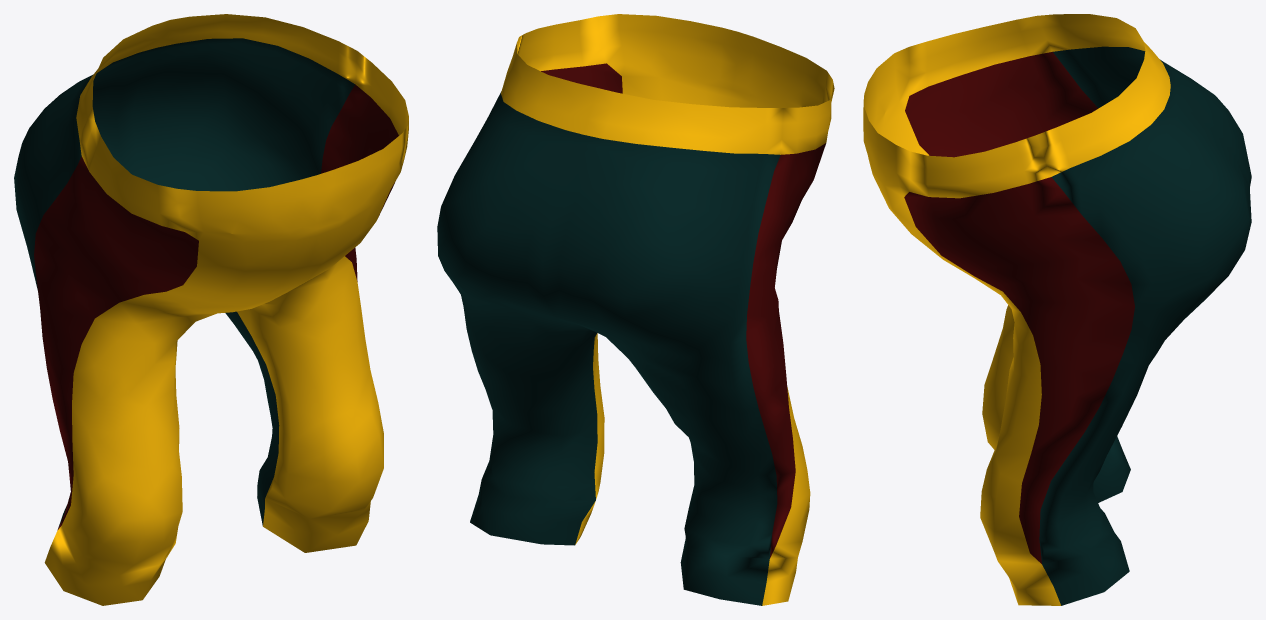
File: ignacio-pants.obj
3 renders of one model, left to right at view 1: azimuth 30°, elevation 25°; view 2: azimuth 150°, elevation 25°; view 3: azimuth 270°, elevation 25°, orthographic. The views are drawn at different scales.
Size of the model in its own units: 0.1923 by 0.3123 by 0.2194.
